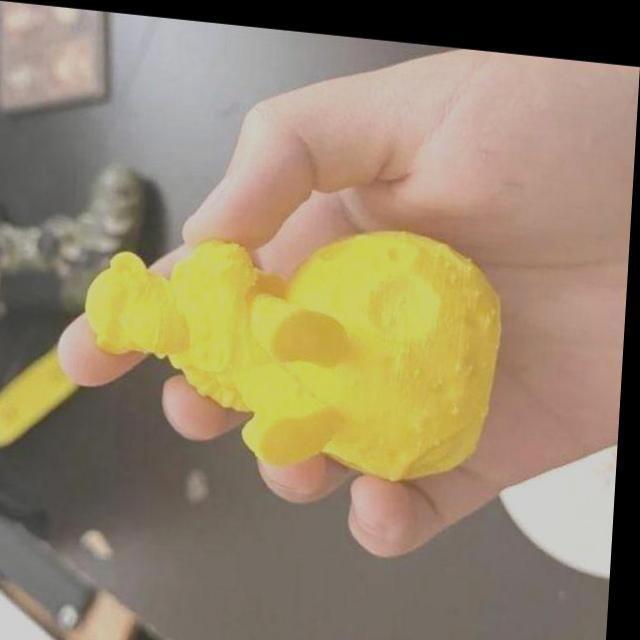zits: (383, 302, 400, 318), (454, 349, 468, 366), (464, 249, 479, 264), (450, 260, 464, 276), (401, 336, 416, 350), (473, 275, 488, 288), (422, 323, 434, 338), (438, 364, 451, 377), (454, 394, 465, 408), (379, 426, 394, 435), (418, 426, 429, 438), (445, 248, 456, 260), (417, 357, 429, 366), (434, 370, 444, 380), (437, 427, 446, 438)
